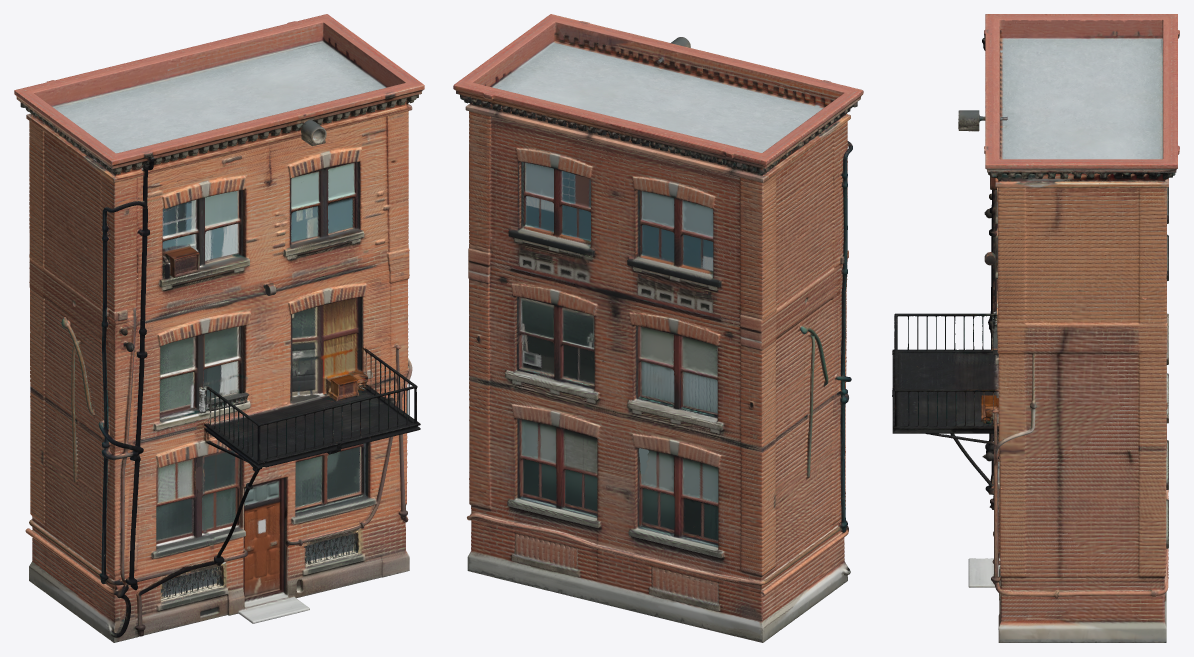
File: wohnblock_alt.glb
3 views of the same model, side by side, from view 1: azimuth 30°, elevation 25°; view 2: azimuth 150°, elevation 25°; view 3: azimuth 270°, elevation 25° (orthographic).
Visible parts, largest first — view 1: Mesh_0; view 2: Mesh_0; view 3: Mesh_0.
Part boxes in pixels (bbox=[...]): Mesh_0: bbox=[14, 14, 424, 642]; Mesh_0: bbox=[453, 14, 863, 642]; Mesh_0: bbox=[892, 14, 1179, 642].
Size of the model in its own units: 1.27 by 1.9 by 1.03.
4 materials, 1 textured.
